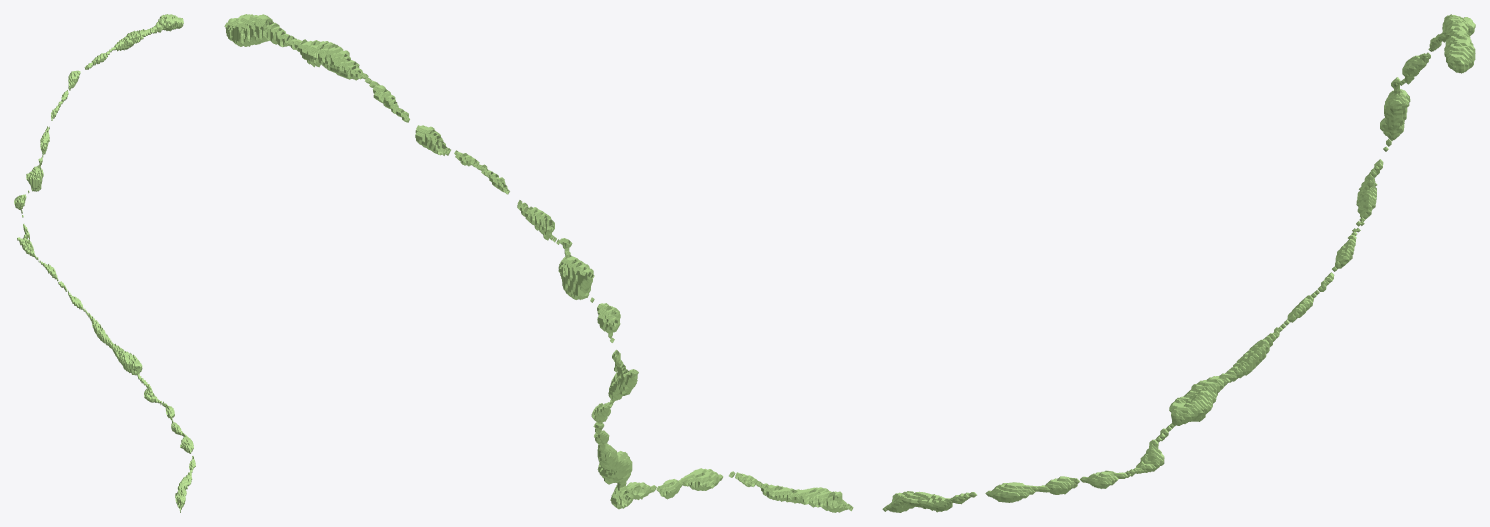
Rendered from SVV_AWBL.gltf.
3 views of the same model, side by side, from view 1: azimuth 30°, elevation 25°; view 2: azimuth 150°, elevation 25°; view 3: azimuth 270°, elevation 25° (orthographic). The views are drawn at different scales.
Visible parts, largest first — view 1: AWBL; view 2: AWBL; view 3: AWBL.
Part boxes in pixels (x1,y1,x2,y2): AWBL: (14, 14, 195, 512); AWBL: (224, 14, 853, 512); AWBL: (882, 14, 1475, 512).
Size of the model in its own units: 88874 by 152367 by 135247.
